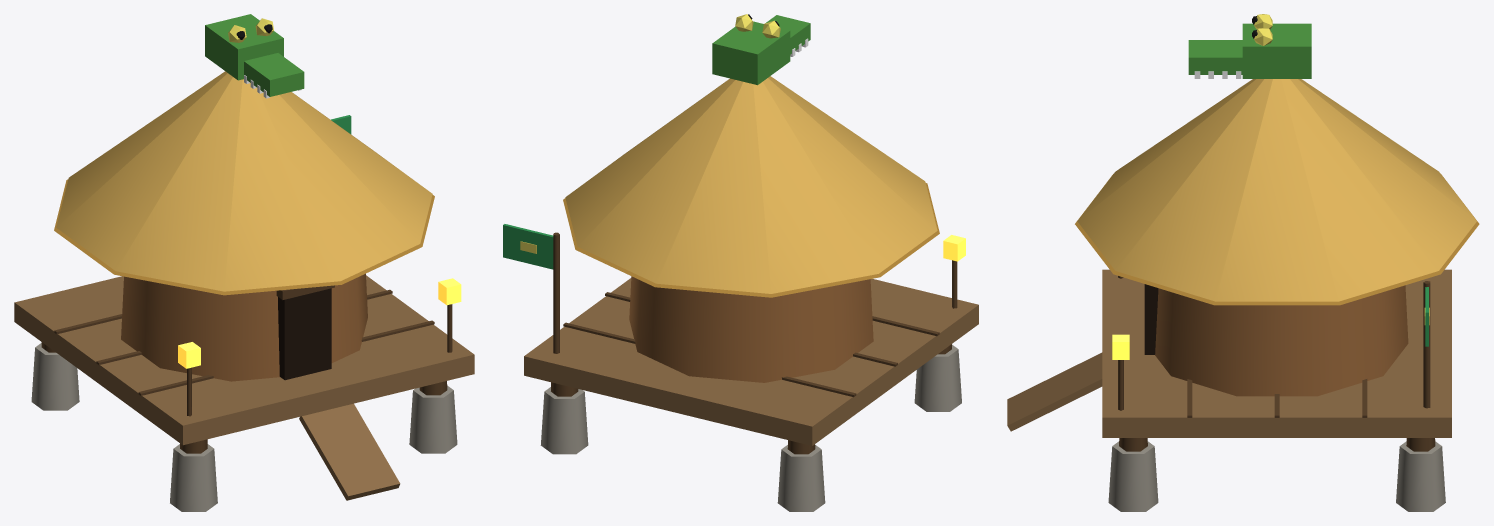
File: level2.glb
The picture shows the model from 3 angles, left to right: view 1: azimuth 30°, elevation 25°; view 2: azimuth 150°, elevation 25°; view 3: azimuth 270°, elevation 25°; orthographic projection. The views are drawn at different scales.
Bounding box in the file's own units: 3.45 × 3.93 × 4.01.
